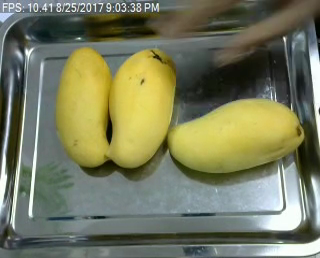Mango: (166, 96, 305, 173), (104, 45, 176, 169), (54, 45, 114, 169)
